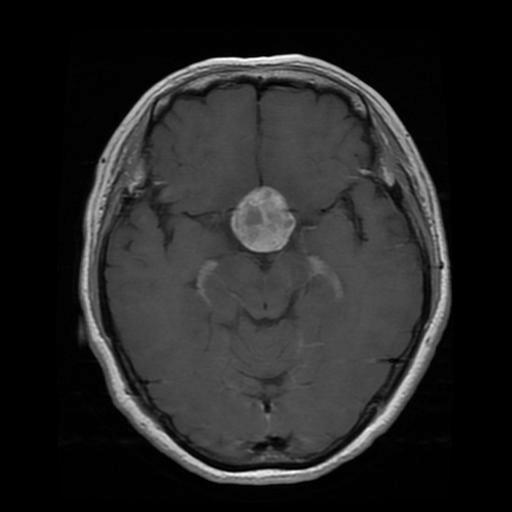Tumour-Pituitary: (231, 188, 301, 257)
